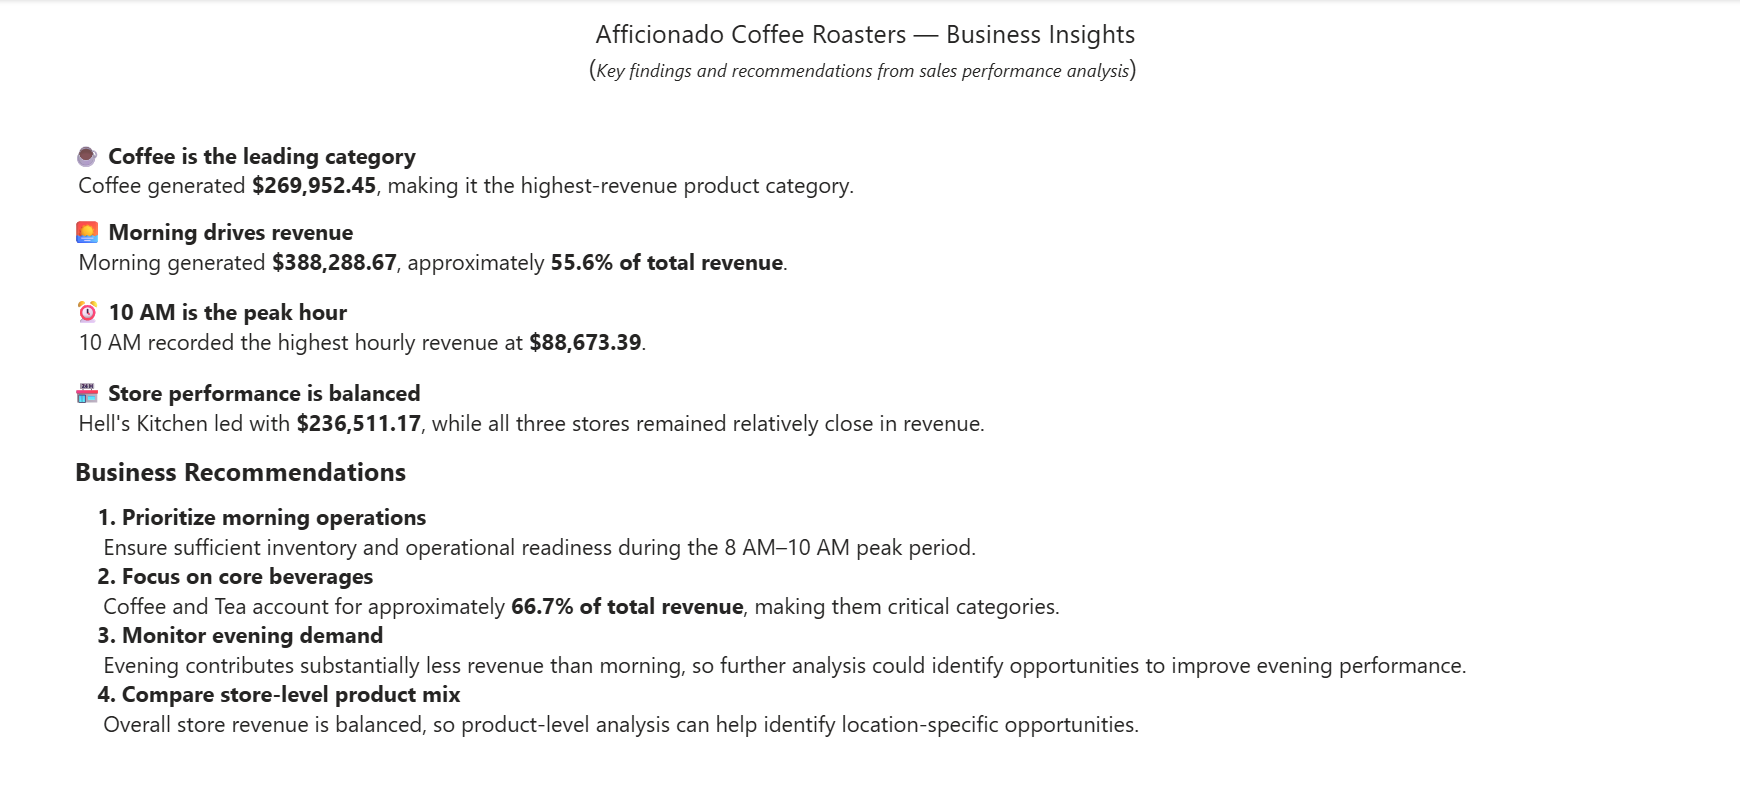

What the dashboard file says about the page in this screenshot:
{"tool":"powerbi","page":{"name":"Business Insights","canvas":[1280,720],"ordinal":1},"visuals":[{"type":"textbox","box":[431.4,9.3,416.3,66.3],"z":0},{"type":"textbox","box":[53.5,100,586,84.9],"z":1},{"type":"textbox","box":[53.5,155.8,586,58.1],"z":2},{"type":"textbox","box":[53.5,214,586,59.3],"z":3},{"type":"textbox","box":[53.5,273.3,694.2,55.8],"z":4},{"type":"textbox","box":[54.7,329.1,693,34.9],"z":5},{"type":"textbox","box":[70.9,364,1016.3,189.5],"z":6}]}

Visuals, with their boxes on the page's 1280x720 design canvas (x1, y1, x2, y2). These are canvas units, not pixel positions in the 1740x800 screenshot, which may show the page scaled, cropped or inside an application window:
textbox: locate(431, 9, 848, 76)
textbox: locate(54, 100, 640, 185)
textbox: locate(54, 156, 640, 214)
textbox: locate(54, 214, 640, 273)
textbox: locate(54, 273, 748, 329)
textbox: locate(55, 329, 748, 364)
textbox: locate(71, 364, 1087, 554)
